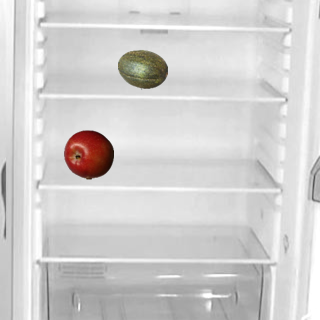Apple Braeburn: (63, 129, 113, 179)
Melon Piel de Sapo: (117, 44, 167, 94)
